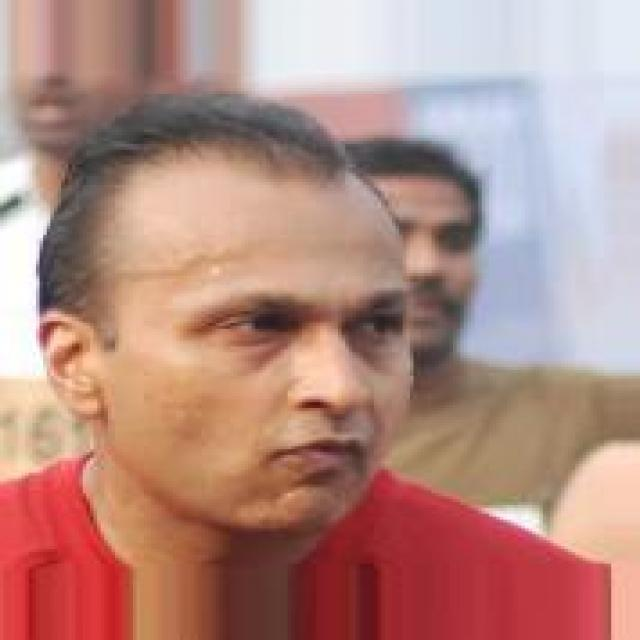nomask: (51, 118, 478, 540)
